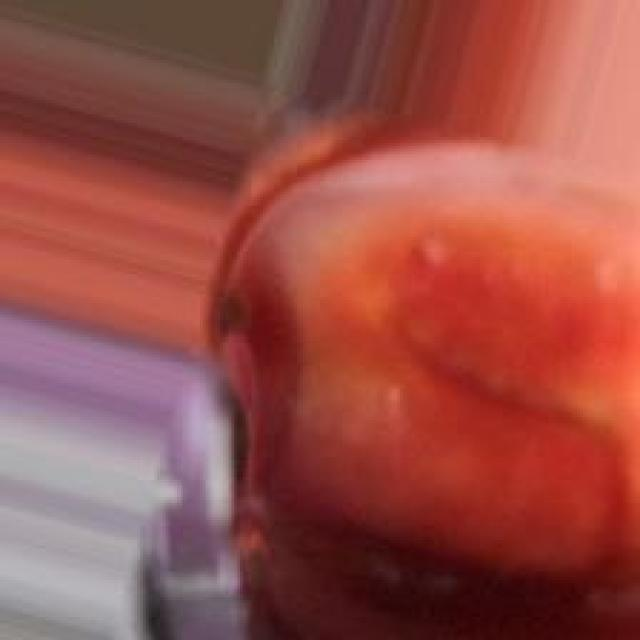type-3: (190, 45, 639, 597)
